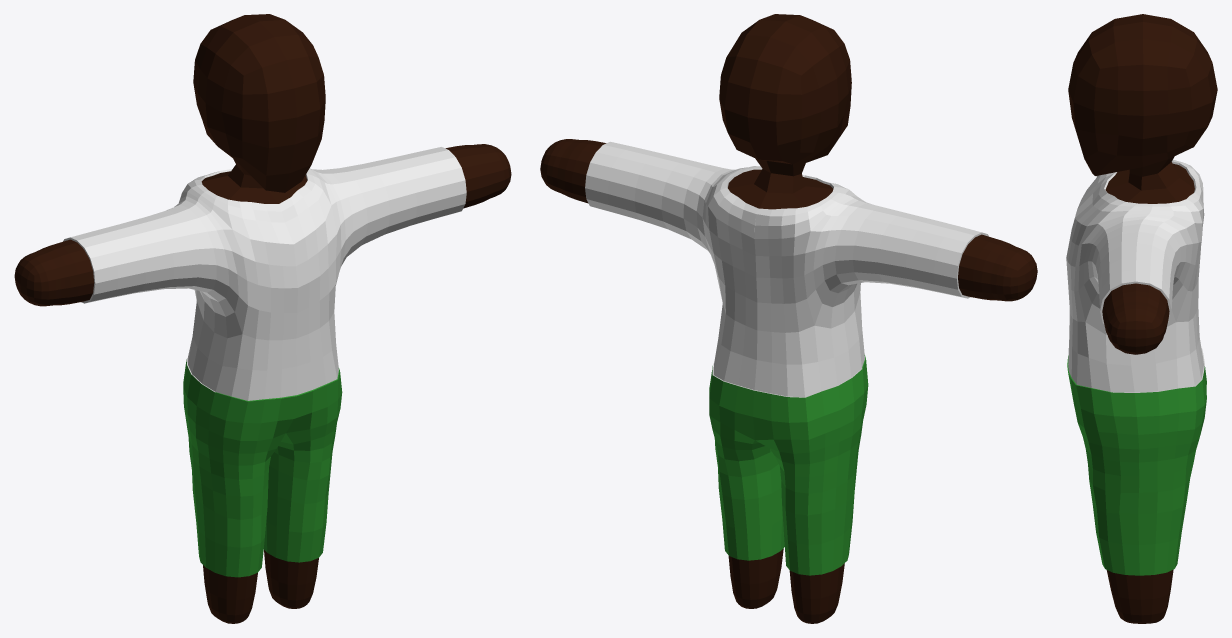
The model's file is Mod13.glb.
The picture shows the model from 3 angles, left to right: view 1: azimuth 30°, elevation 25°; view 2: azimuth 150°, elevation 25°; view 3: azimuth 270°, elevation 25°; orthographic projection.
Parts seen in each view (by area): view 1: Modelo 5c; view 2: Modelo 5c; view 3: Modelo 5c.
Part boxes in pixels (left/top/right/bottom): Modelo 5c: left=14, top=14, right=511, bottom=623; Modelo 5c: left=540, top=14, right=1037, bottom=623; Modelo 5c: left=1066, top=14, right=1217, bottom=623.
Size of the model in its own units: 7.96 by 9.2 by 2.17.
